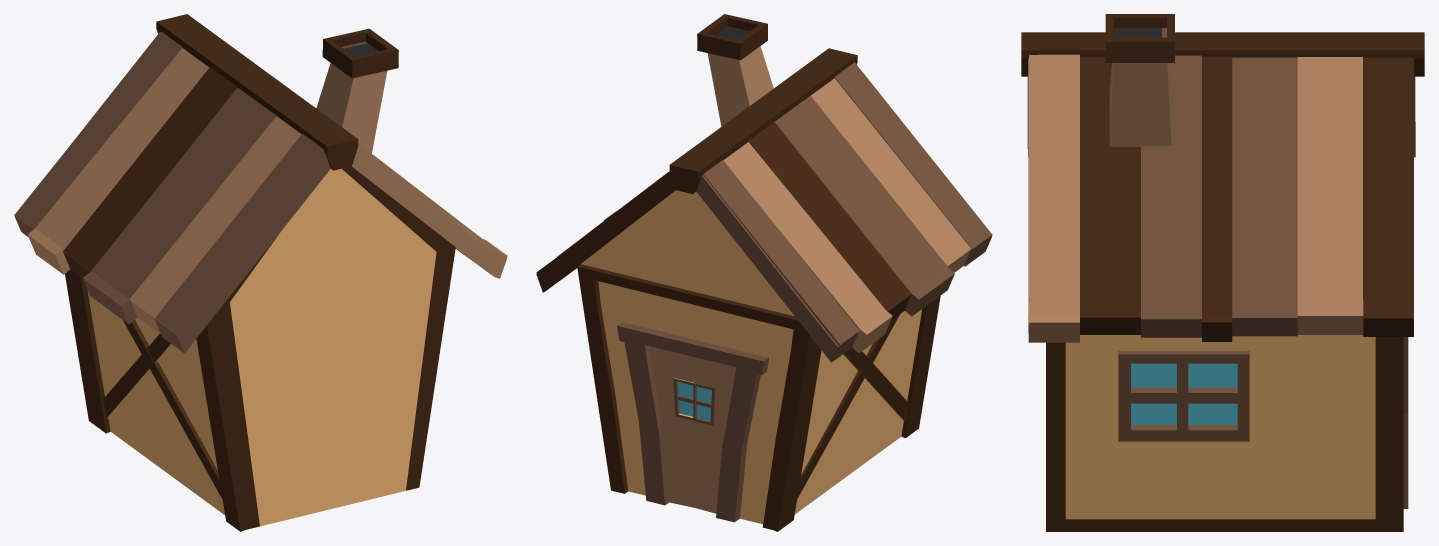
Rendered from Huis Design 1.fbx.
3 views of the same model, side by side, from view 1: azimuth 30°, elevation 25°; view 2: azimuth 150°, elevation 25°; view 3: azimuth 270°, elevation 25° (orthographic). The views are drawn at different scales.
Visible parts, largest first — view 1: Huis Design 1; view 2: Huis Design 1; view 3: Huis Design 1.
Part boxes in pixels (x1,y1,x2,y2): Huis Design 1: [14, 14, 507, 531]; Huis Design 1: [536, 14, 992, 531]; Huis Design 1: [1021, 14, 1424, 531].
Size of the model in its own units: 446 by 527 by 389.
